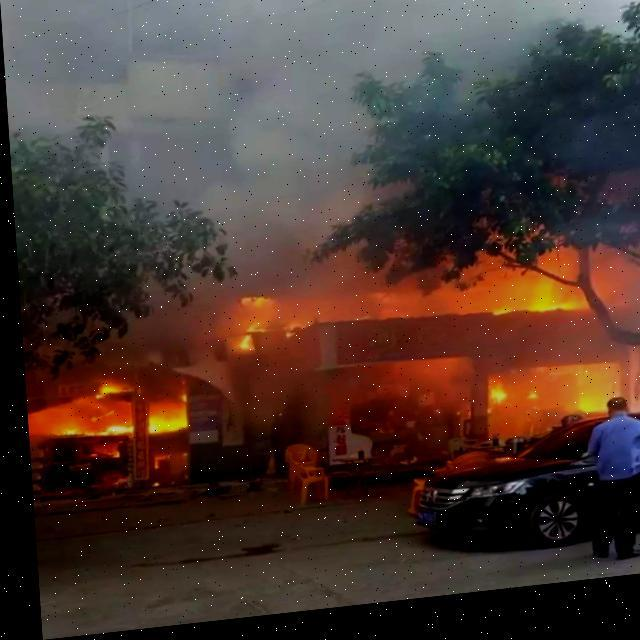Fire: (43, 377, 184, 454), (481, 372, 613, 442), (496, 277, 585, 334), (232, 298, 298, 356)
